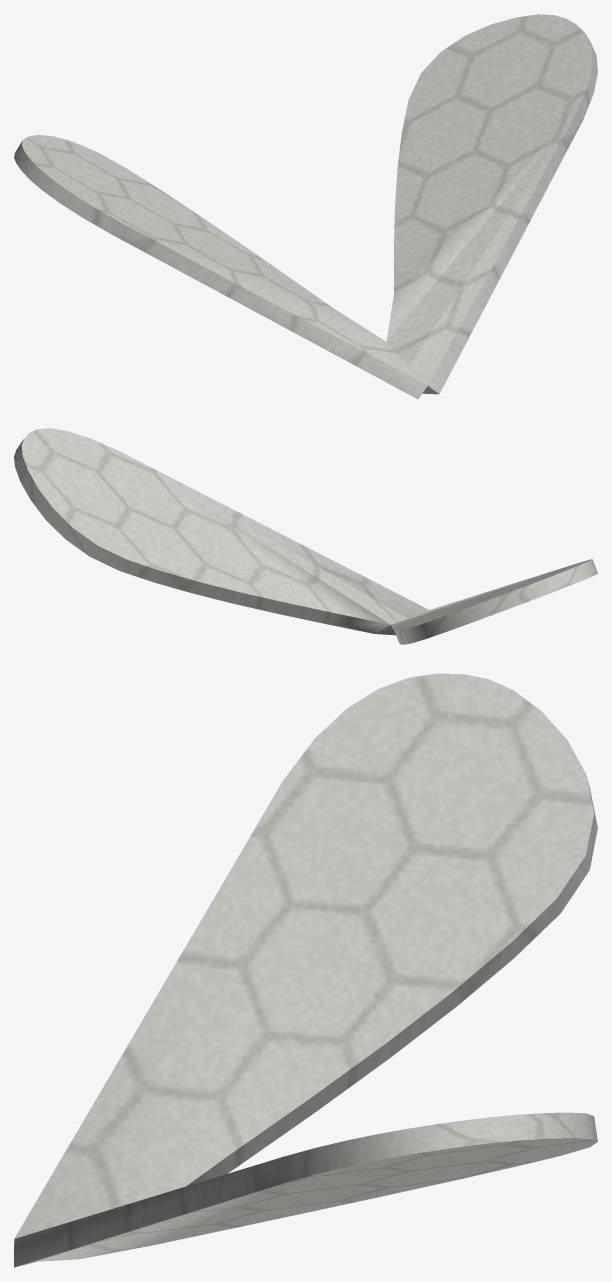
Rendered from 04fly.obj.
The picture shows the model from 3 angles, top to bottom: view 1: azimuth 30°, elevation 25°; view 2: azimuth 150°, elevation 25°; view 3: azimuth 270°, elevation 25°; orthographic projection. The views are drawn at different scales.
Visible parts, largest first — view 1: Line009; view 2: Line009; view 3: Line009.
Boxes of the visible parts, x1,y1,x2,y2 form: Line009: (14,14,597,399); Line009: (14,428,597,644); Line009: (14,673,597,1267).
Size of the model in its own units: 4.2 by 1.55 by 2.25.
